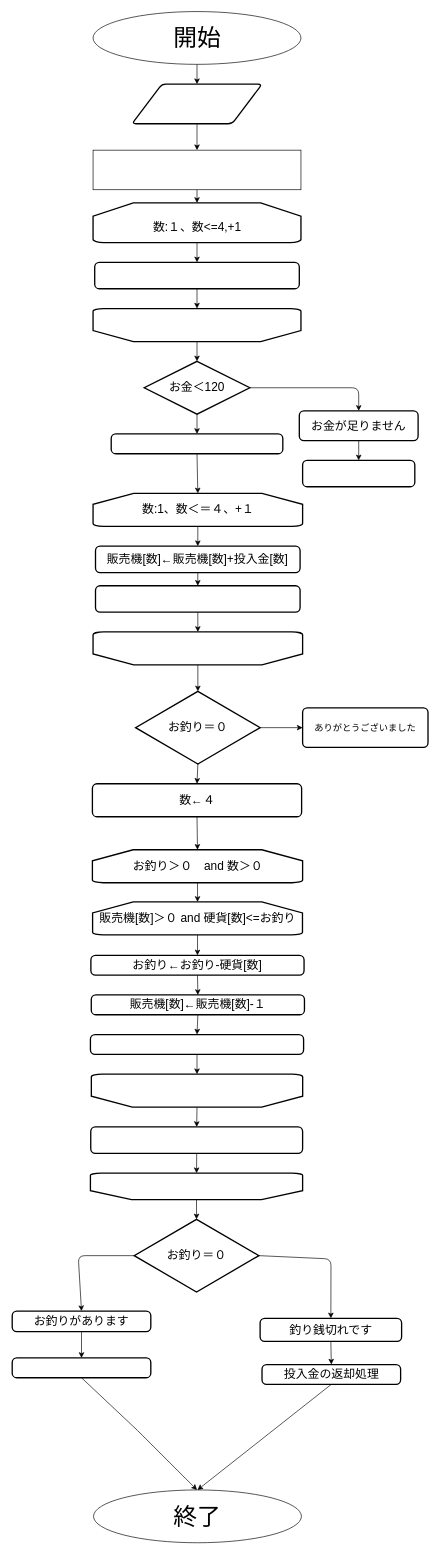
Some shapes in this 440 by 1554 pixel diagram are drawn without their labels. The centre of each missing label's shape, as x and y in pixels:
"お金←お金＋硬貨[数]+投入金[数]" goes at [197,275].
"お金←０" goes at [196,169].
"お金の投入" goes at [196,103].
"お釣り←お金‐120" goes at [196,443].
"お釣りの払い出し処理" goes at [81,1367].
"投入金額の返金処理" goes at [358,473].
"数←数-１" goes at [196,1140].
"釣り枚数[数]←釣り枚数[数]+1" goes at [196,1044].
"釣り銭枚[数]←０" goes at [197,598].
